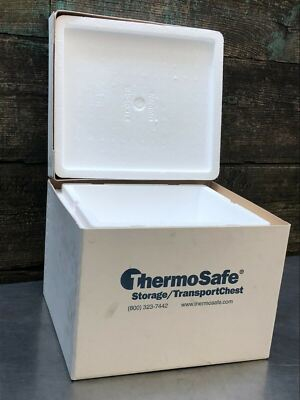Boxes: (56, 184, 270, 228)
